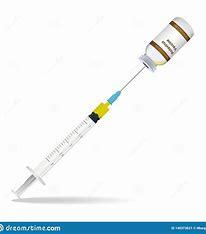Syringe: (7, 74, 136, 201), (132, 13, 196, 75)
